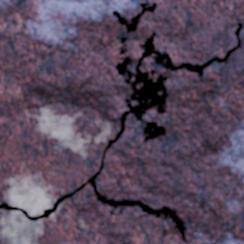brick: (0, 0, 243, 215), (0, 29, 243, 243)
crack: (0, 2, 243, 242)
